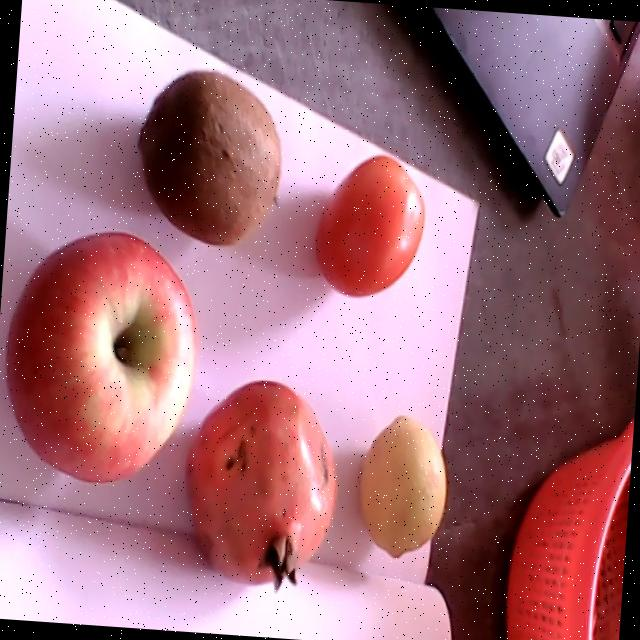apple: (6, 229, 194, 482)
kiwi: (139, 71, 282, 246)
lemon: (359, 415, 446, 558)
pomegranate: (185, 380, 335, 592)
tomato: (316, 156, 423, 295)
